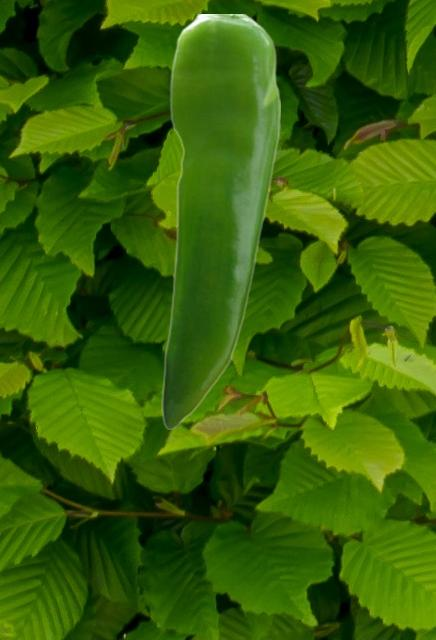green_chili: (161, 14, 279, 428)
